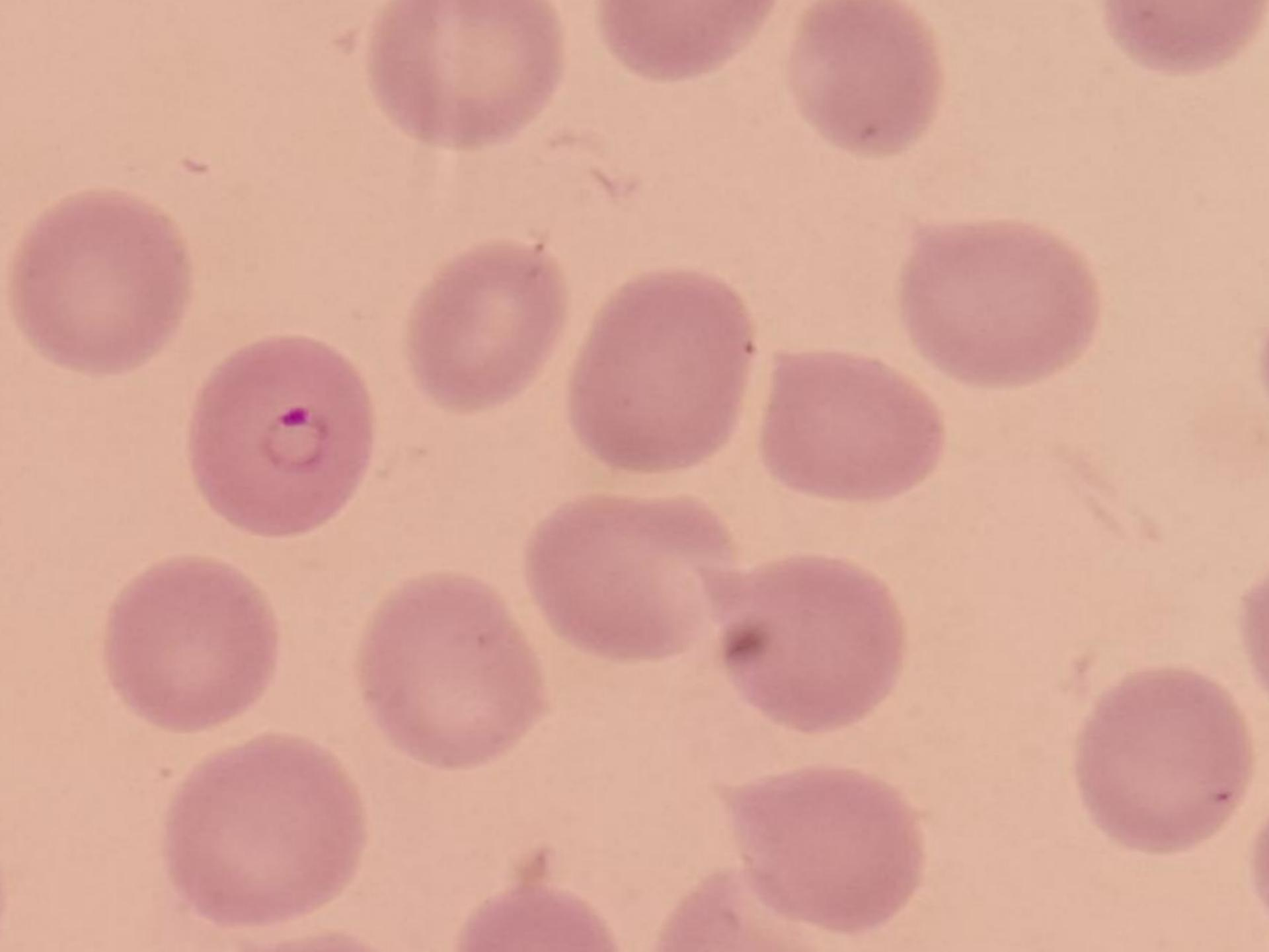Infected: (190, 336, 373, 533)
Uninfected: (692, 550, 902, 728), (568, 273, 750, 476), (160, 740, 366, 919), (359, 573, 545, 768), (704, 768, 920, 928), (529, 489, 728, 660), (15, 189, 190, 373), (1079, 664, 1250, 851), (901, 227, 1093, 389), (104, 555, 276, 732), (365, 0, 564, 149), (757, 349, 936, 499), (403, 240, 558, 407), (796, 0, 936, 159)
